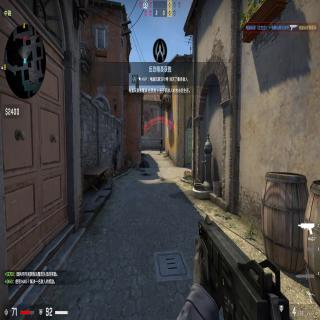T-Body: (160, 137, 162, 154)
